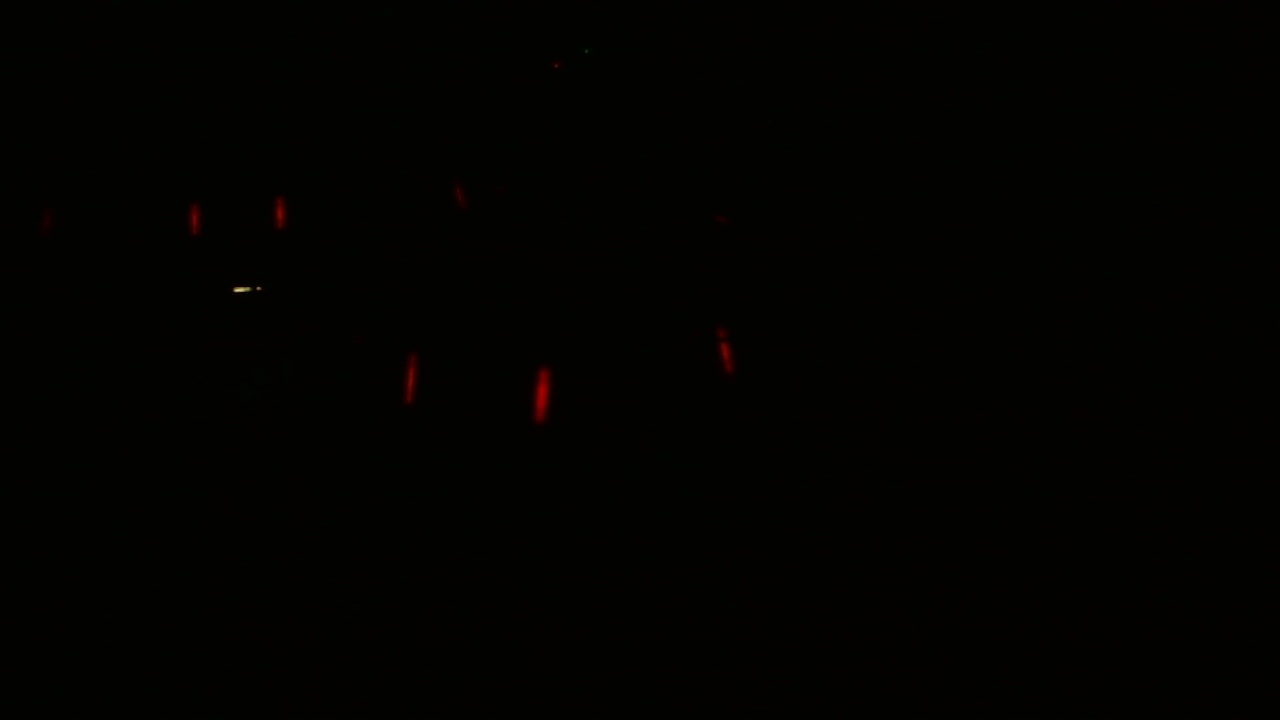pair1: (177, 188, 296, 246)
pair2: (395, 349, 554, 428)
